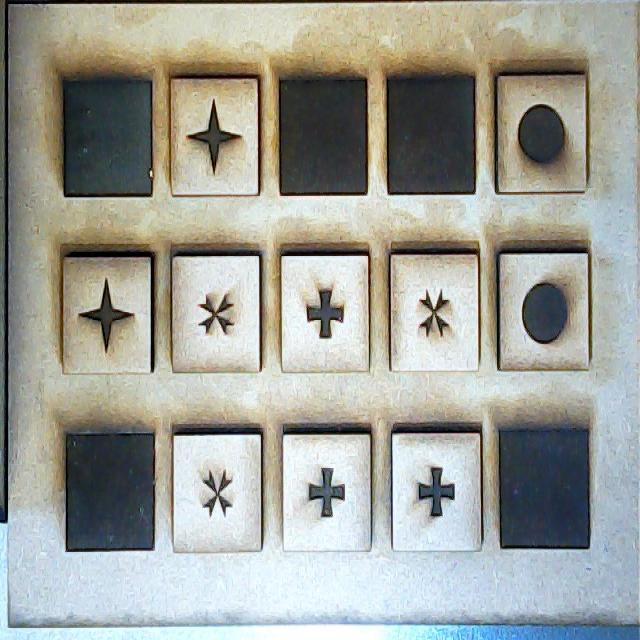circle: (499, 252, 591, 367), (498, 74, 588, 191)
maltese: (172, 432, 262, 553), (391, 253, 480, 371), (174, 256, 261, 373)
nothing: (59, 426, 161, 558)
star: (60, 251, 153, 374), (169, 76, 258, 196)
temple: (281, 252, 369, 370), (284, 432, 371, 548), (395, 432, 480, 549)
